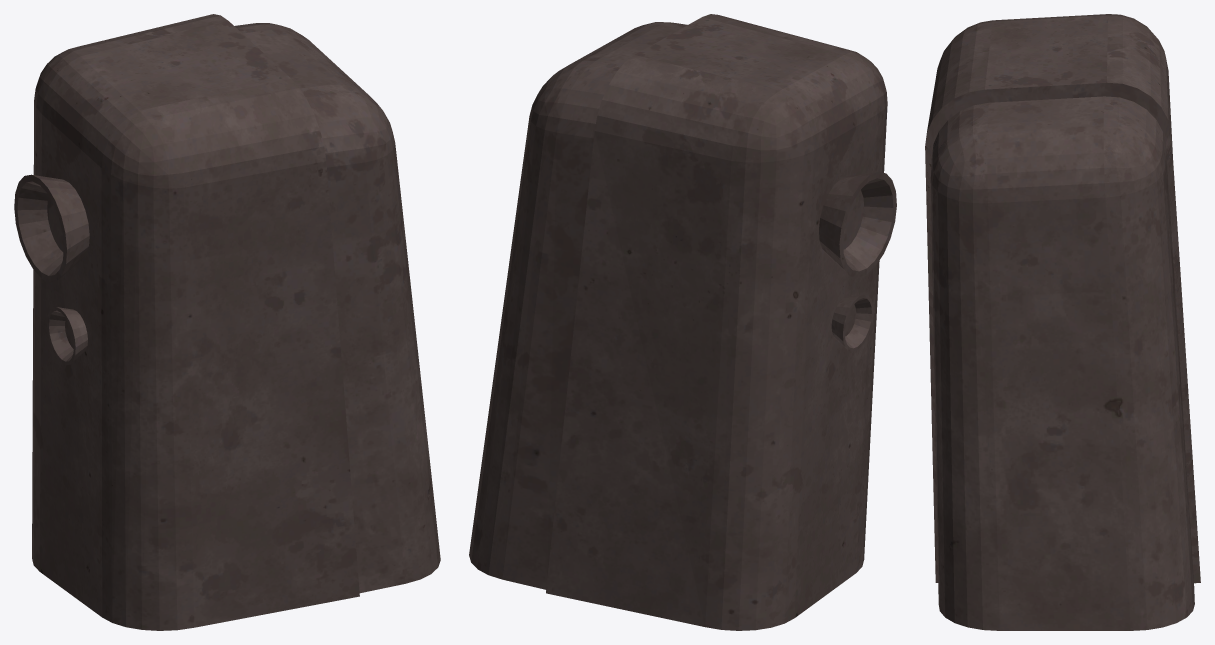
Rendered from MachinePart04.fbx.
The picture shows the model from 3 angles, left to right: view 1: azimuth 30°, elevation 25°; view 2: azimuth 150°, elevation 25°; view 3: azimuth 270°, elevation 25°; orthographic projection. The views are drawn at different scales.
Parts seen in each view (by area): view 1: SM_ENV_STRUCT_ScrapYard_MachinePart_11.mo; view 2: SM_ENV_STRUCT_ScrapYard_MachinePart_11.mo; view 3: SM_ENV_STRUCT_ScrapYard_MachinePart_11.mo.
Boxes of the visible parts, x1,y1,x2,y2 form: SM_ENV_STRUCT_ScrapYard_MachinePart_11.mo: (14,14,440,630); SM_ENV_STRUCT_ScrapYard_MachinePart_11.mo: (469,14,896,630); SM_ENV_STRUCT_ScrapYard_MachinePart_11.mo: (925,14,1200,630).
Size of the model in its own units: 1037 by 1430 by 740.
Materials: 3 (3 with a texture image).
